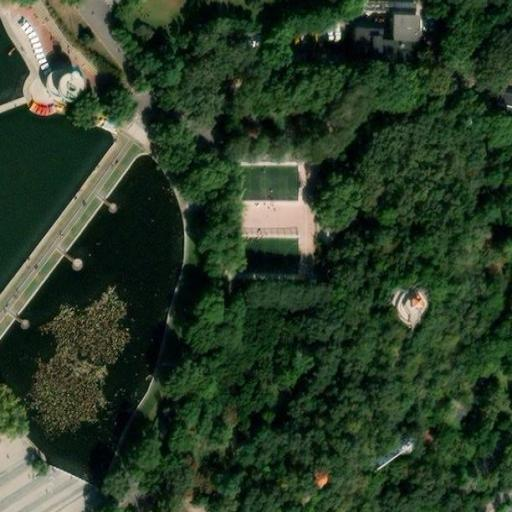building: (39, 54, 91, 102), (367, 430, 415, 469), (354, 26, 401, 60), (392, 12, 425, 43), (309, 460, 332, 486), (503, 89, 512, 117)
